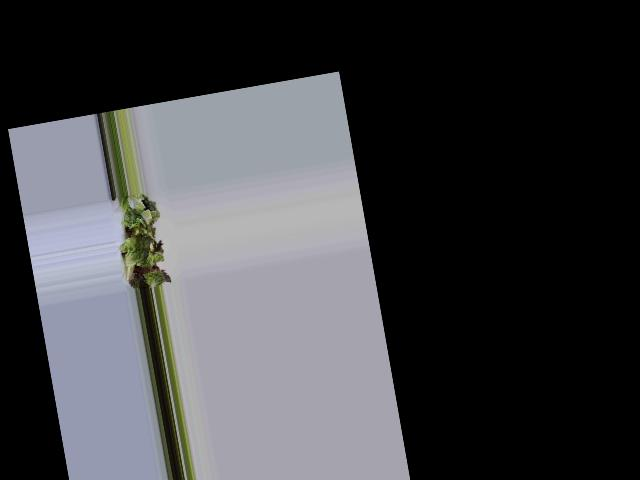lettuce: (118, 196, 167, 287)
